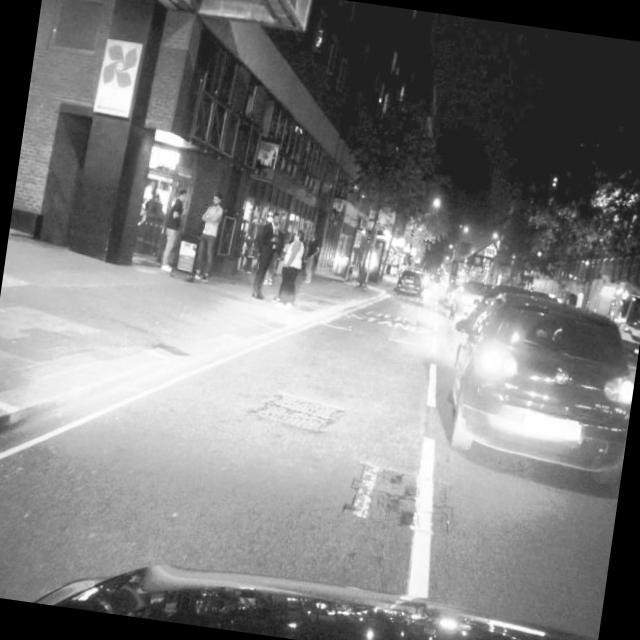Truck: (581, 277, 640, 366)
